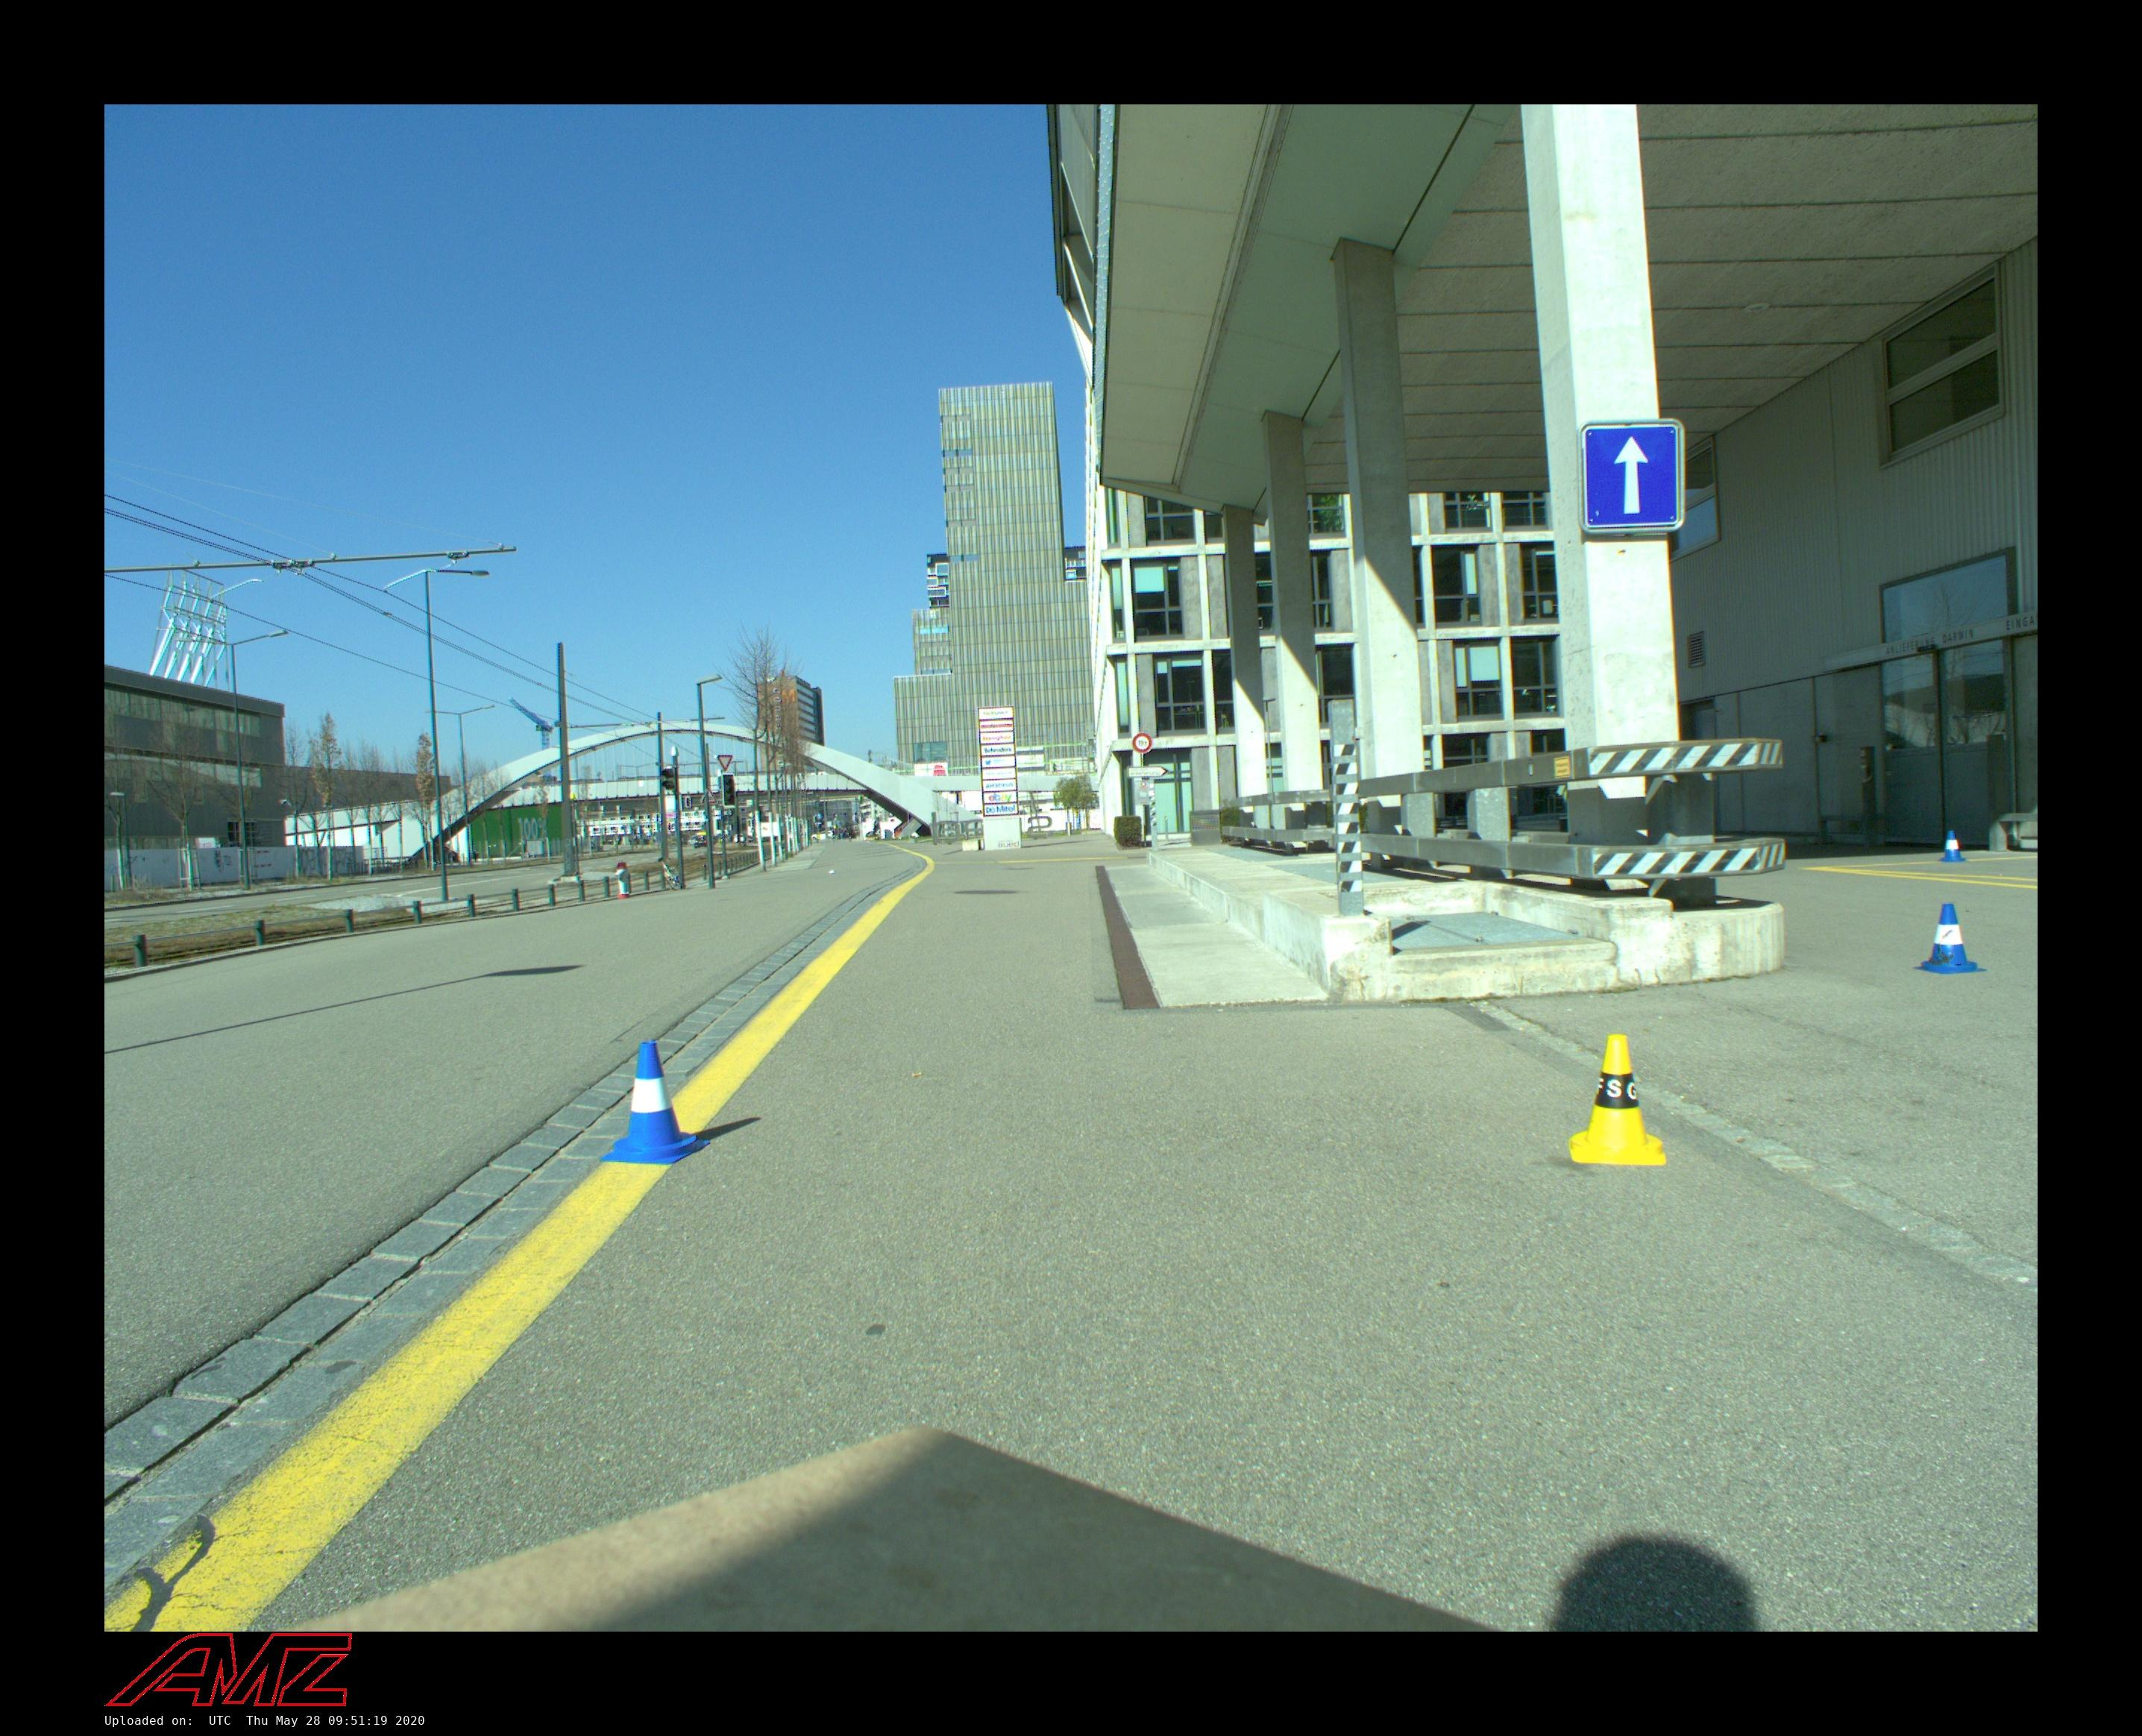blue_cone: (599, 1042, 710, 1164), (1913, 903, 1988, 974), (1938, 831, 1967, 863)
yellow_cone: (1568, 1035, 1667, 1166)
